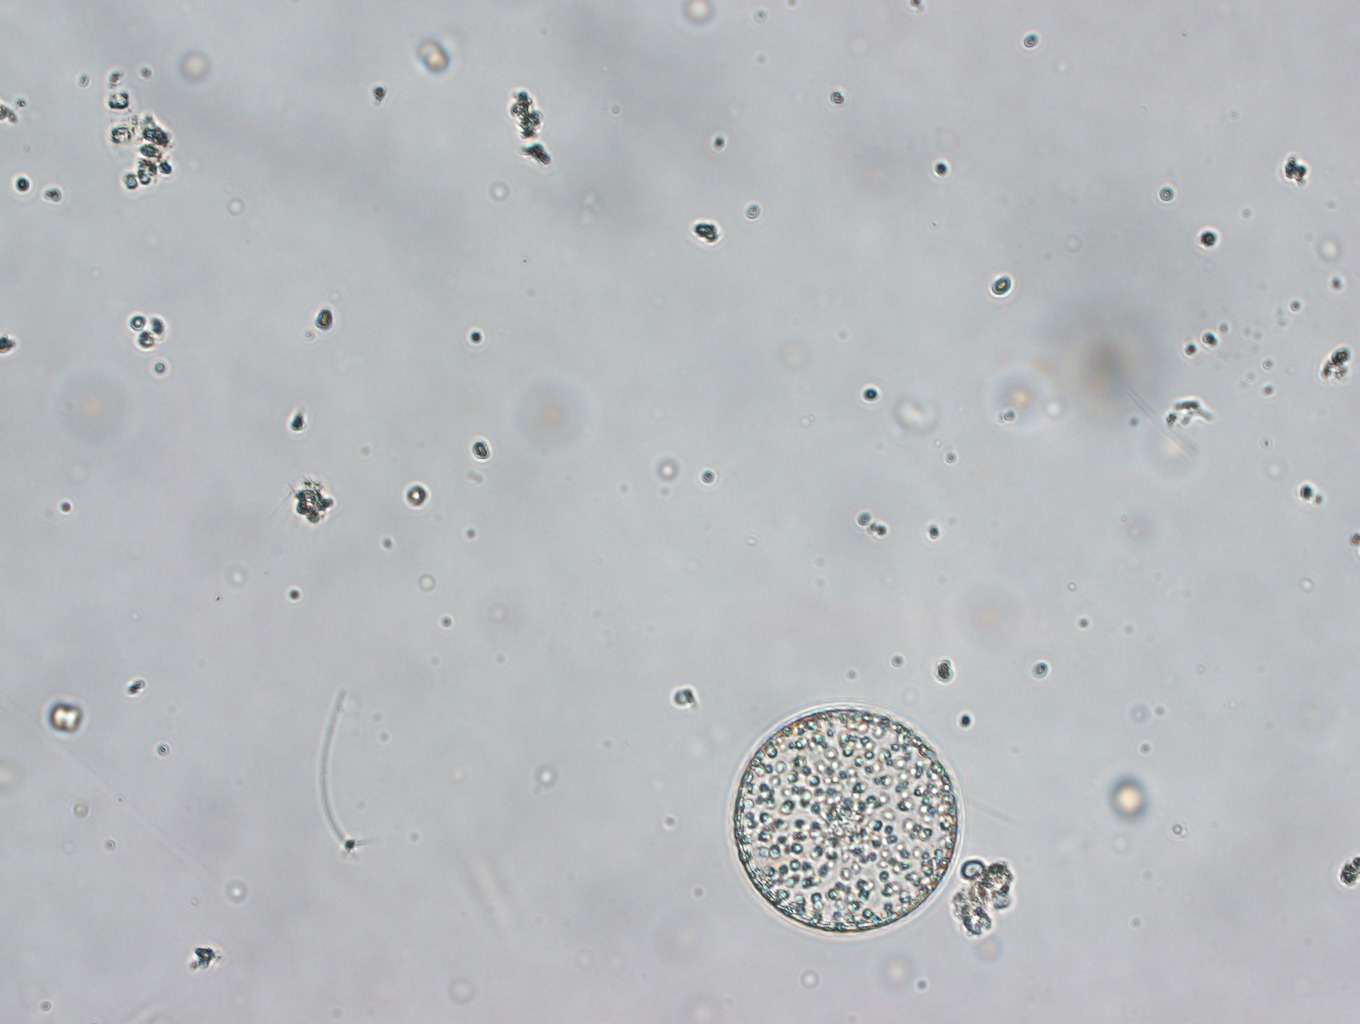coscinodiscus: (721, 703, 968, 942)
